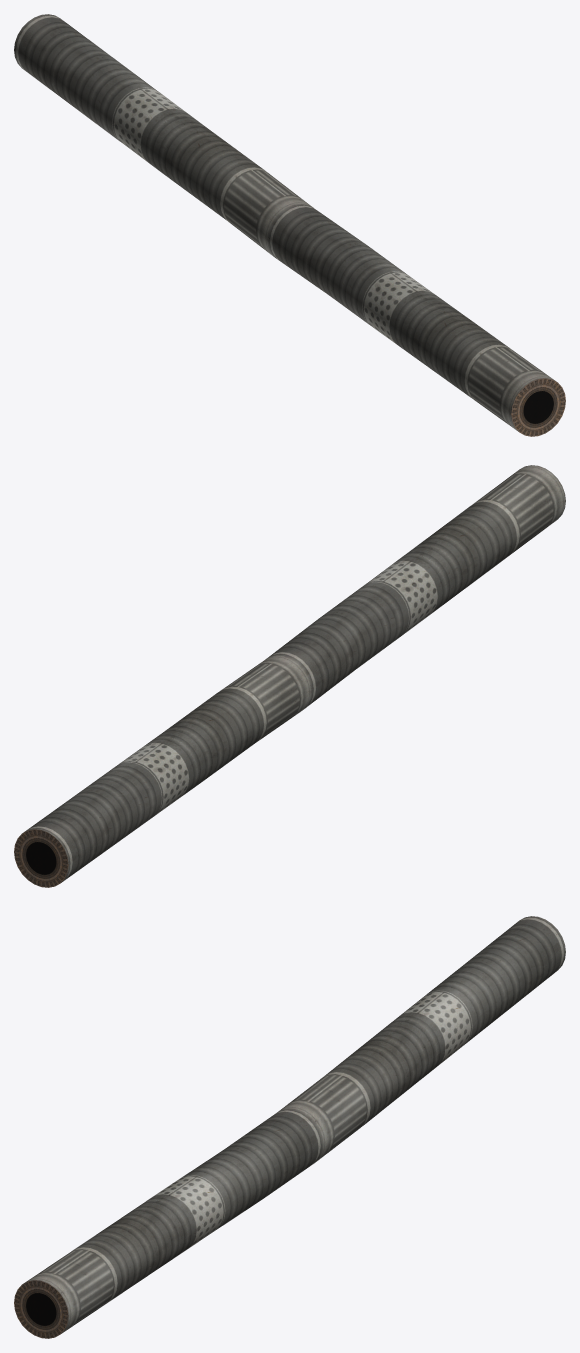
File: pipe_straight.fbx
3 renders of one model, top to bottom at view 1: azimuth 30°, elevation 25°; view 2: azimuth 150°, elevation 25°; view 3: azimuth 330°, elevation 25°, orthographic.
Parts seen in each view (by area): view 1: Mesh; view 2: Mesh; view 3: Mesh.
Boxes of the visible parts, box(x1,y1,x2,y2) form: Mesh: box(14, 14, 565, 436); Mesh: box(14, 465, 565, 887); Mesh: box(14, 916, 565, 1338).
Bounding box in the file's own units: 33.36 × 35.36 × 479.
